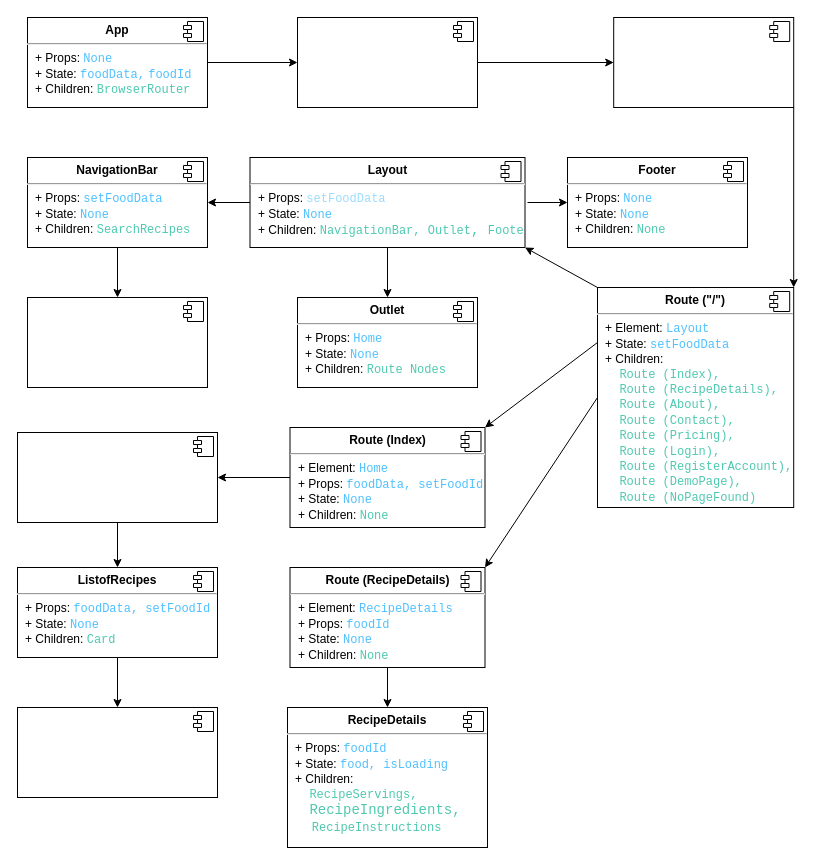
The diagram is 820 pixels wide and 865 high, and some of its shapes have lost their labels. Here are the shapes that lost their labels. From the top down, the centre of each, then its label:
[387,62]: BrowserRouter + Props: None + State: None + Children: Routes
[703,62]: Routes + Props: None + State: None + Children: Route ("/")
[117,342]: SearchRecipes + Props: setFoodData + State: userInput, query + Children: None
[117,477]: Home + Props: foodData, setFoodId + State: None + Children: ListOfRecipes
[117,752]: Card + Props: food, setFoodId + State: None + Children: None
